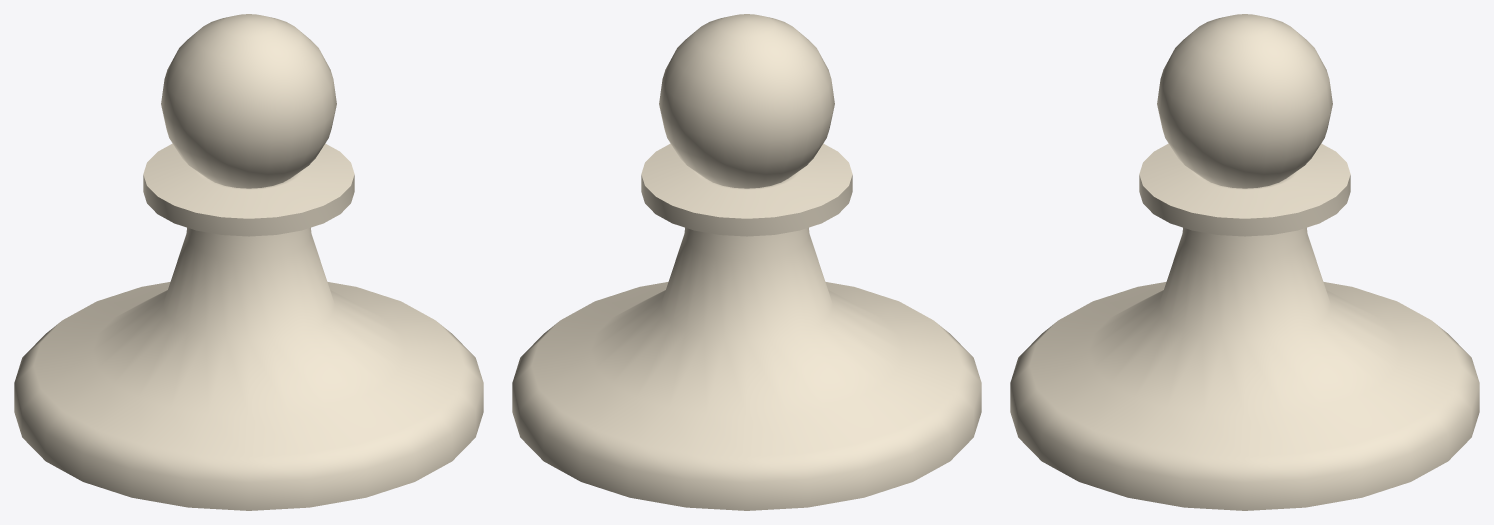
The model's file is white_pawn.glb.
The picture shows the model from 3 angles, left to right: view 1: azimuth 30°, elevation 25°; view 2: azimuth 150°, elevation 25°; view 3: azimuth 270°, elevation 25°; orthographic projection.
Visible parts, largest first — view 1: white_pawn; view 2: white_pawn; view 3: white_pawn.
Part boxes in pixels (x1=…): white_pawn: x1=14, y1=14, x2=483, y2=510; white_pawn: x1=512, y1=14, x2=981, y2=510; white_pawn: x1=1010, y1=14, x2=1479, y2=510.
Size of the model in its own units: 0.024 by 0.022 by 0.024.
